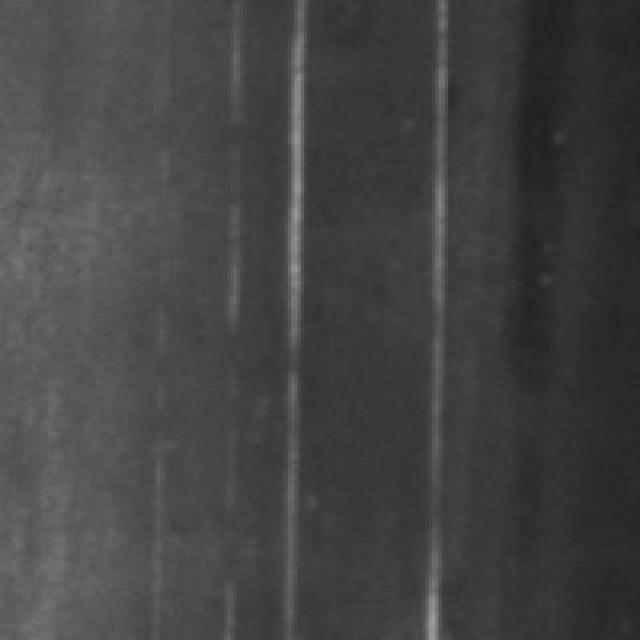scratches: (406, 0, 457, 630), (266, 0, 310, 627)
